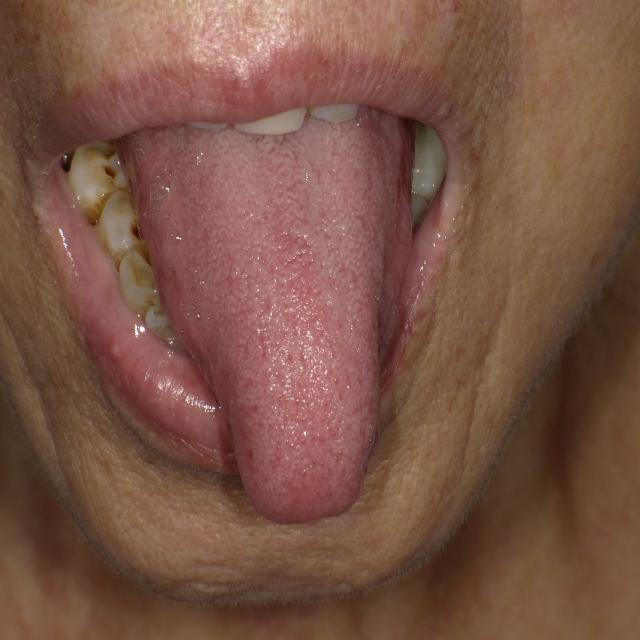baitaishe: (118, 99, 414, 523)
hongdianshe: (245, 447, 254, 461)
shoushe: (118, 99, 414, 523)
